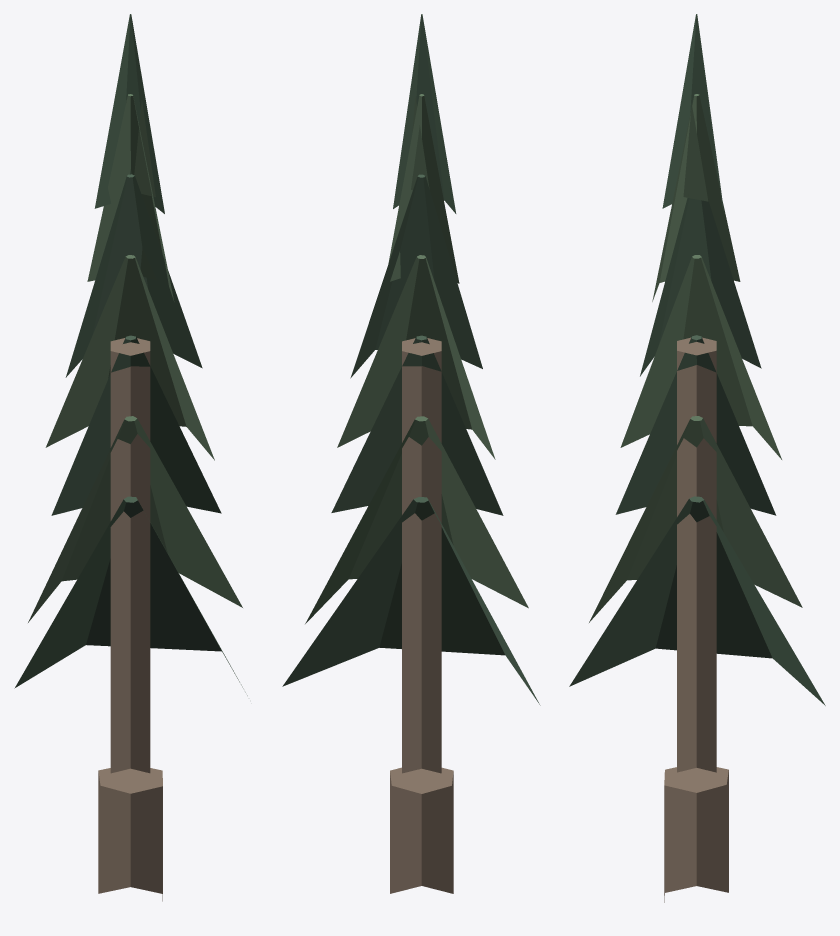
File: shu.yunshan@subadult__summer.glb
The picture shows the model from 3 angles, left to right: view 1: azimuth 30°, elevation 25°; view 2: azimuth 150°, elevation 25°; view 3: azimuth 270°, elevation 25°; orthographic projection.
Parts seen in each view (by area): view 1: shu.yunshan@subadult__summer; view 2: shu.yunshan@subadult__summer; view 3: shu.yunshan@subadult__summer.
Part boxes in pixels (x1,y1,x2,y2): shu.yunshan@subadult__summer: (14,14,247,901); shu.yunshan@subadult__summer: (282,14,540,893); shu.yunshan@subadult__summer: (569,14,825,902).
Bounding box in the file's own units: 2.49 × 9.88 × 2.6.
